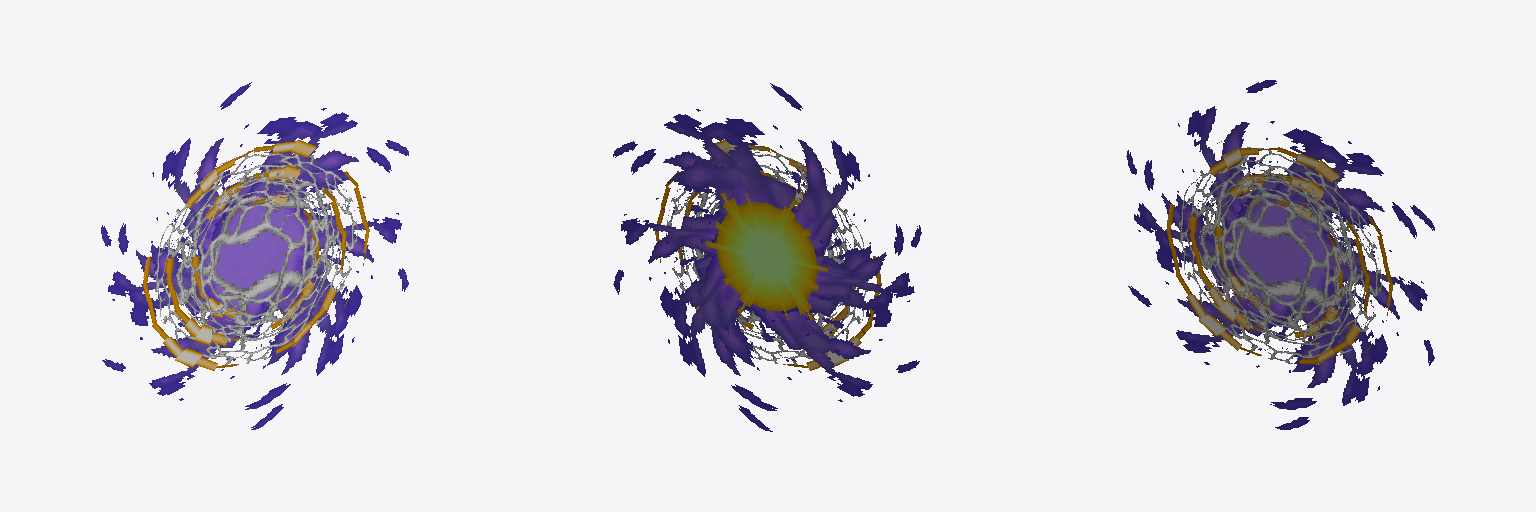
3 views of the same model, side by side, from view 1: azimuth 30°, elevation 25°; view 2: azimuth 150°, elevation 25°; view 3: azimuth 330°, elevation 25° (orthographic).
Visible parts, largest first — view 1: Portal2, Portal1, Portal4; view 2: Portal2, Portal3, Portal1, Portal4; view 3: Portal2, Portal1, Portal4.
Boxes of the visible parts, x1,y1,x2,y2 form: Portal2: [101, 82, 408, 429]; Portal1: [154, 150, 357, 364]; Portal4: [143, 140, 369, 370]; Portal2: [613, 83, 921, 431]; Portal3: [706, 193, 827, 319]; Portal1: [665, 147, 867, 364]; Portal4: [655, 140, 881, 370]; Portal2: [1126, 80, 1434, 429]; Portal1: [1178, 147, 1382, 364]; Portal4: [1166, 141, 1393, 363].
Bounding box in the file's own units: 99.14 × 99.71 × 0.8353.
Materials: 4 (4 with a texture image).